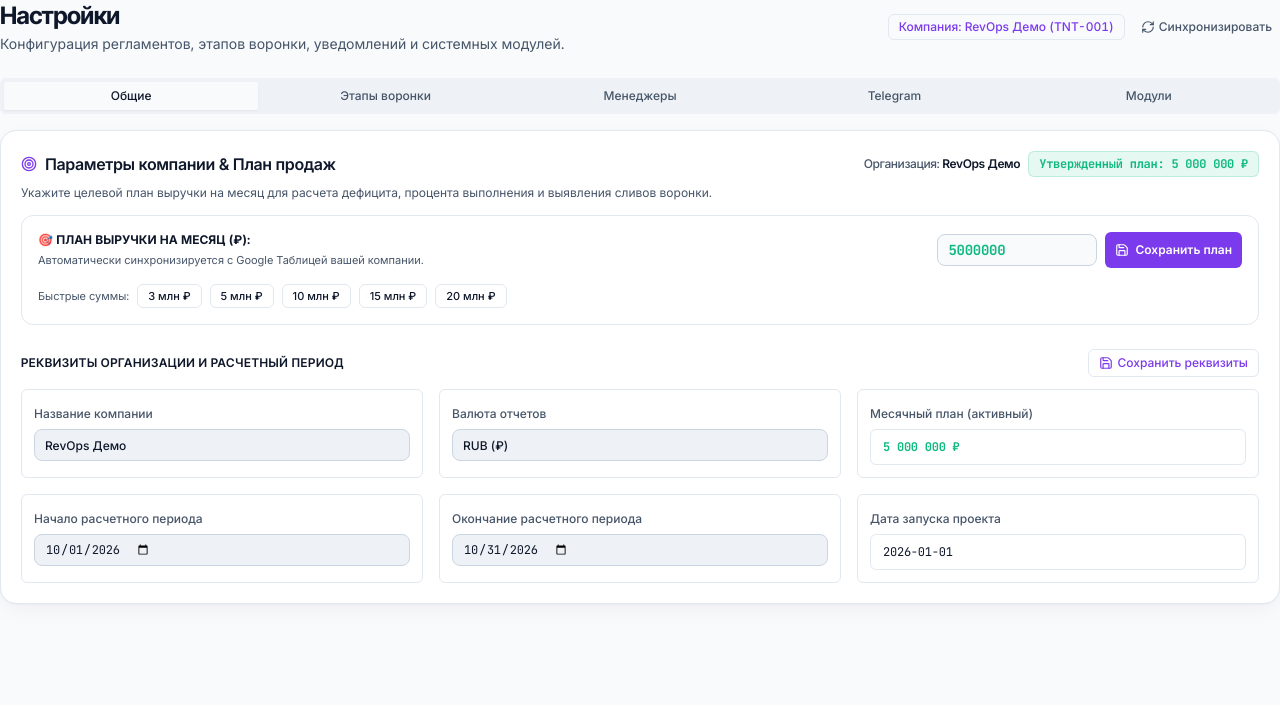
Scenario: SettingsPage › validates manager fields and prevents duplicate IDs
Expected: the text "RevOps Демо" is shown, left=942, top=156, right=1020, bottom=171
Press Enter in the tab with test id "tab-managers", box left=513, top=82, right=767, bottom=110
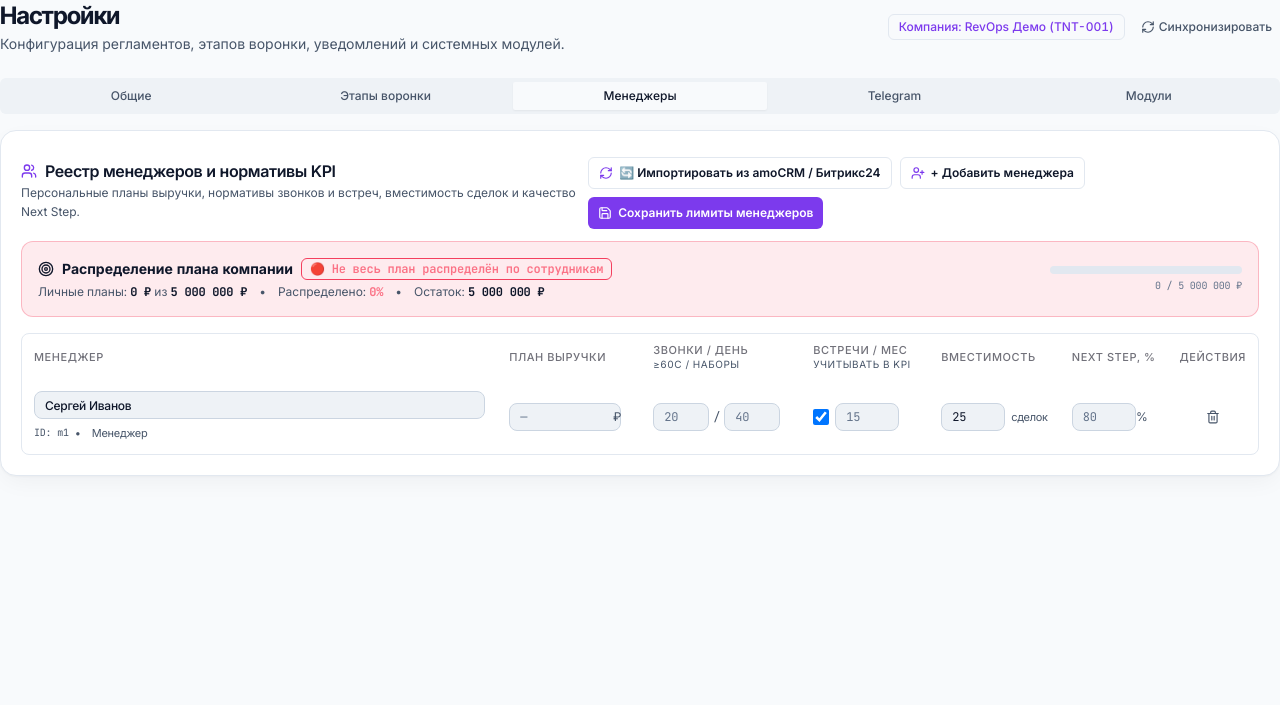
Click the button with test id "btn-add-manager" at coordinates (992, 173), box left=900, top=157, right=1085, bottom=189
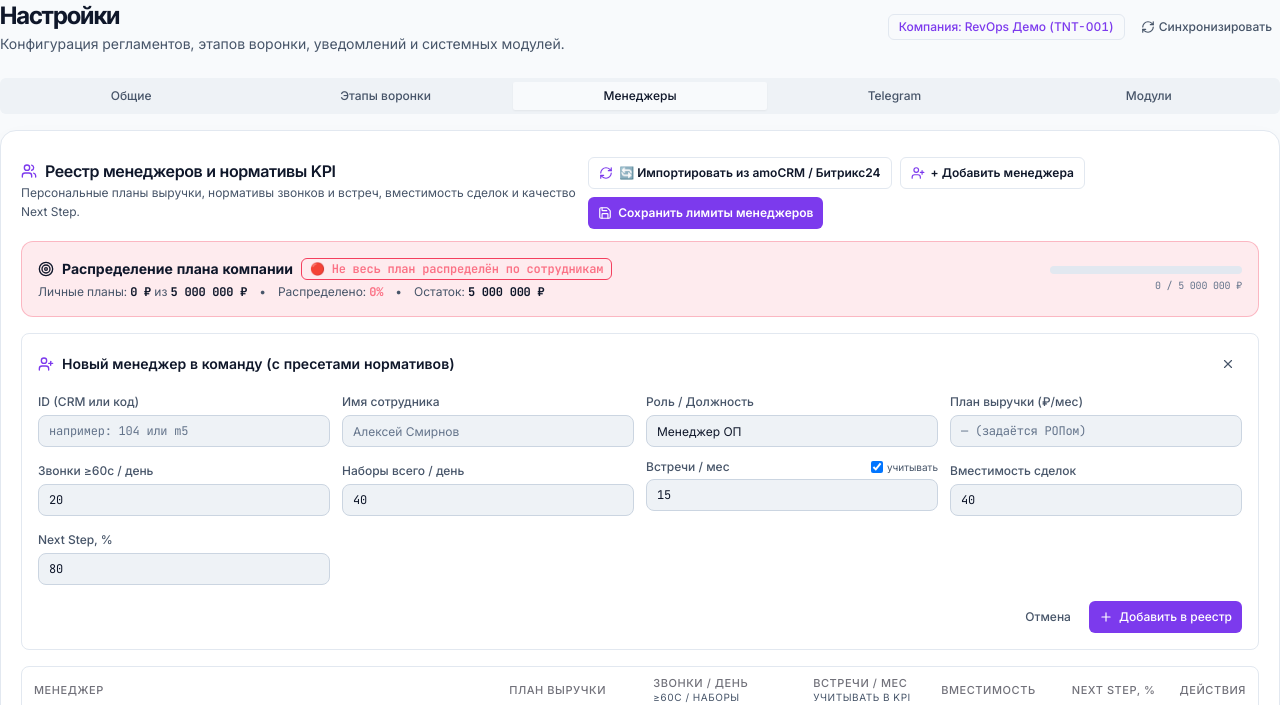
Empty submit
Click the button with test id "btn-confirm-add-manager" at coordinates (1165, 617), box left=1089, top=601, right=1242, bottom=633
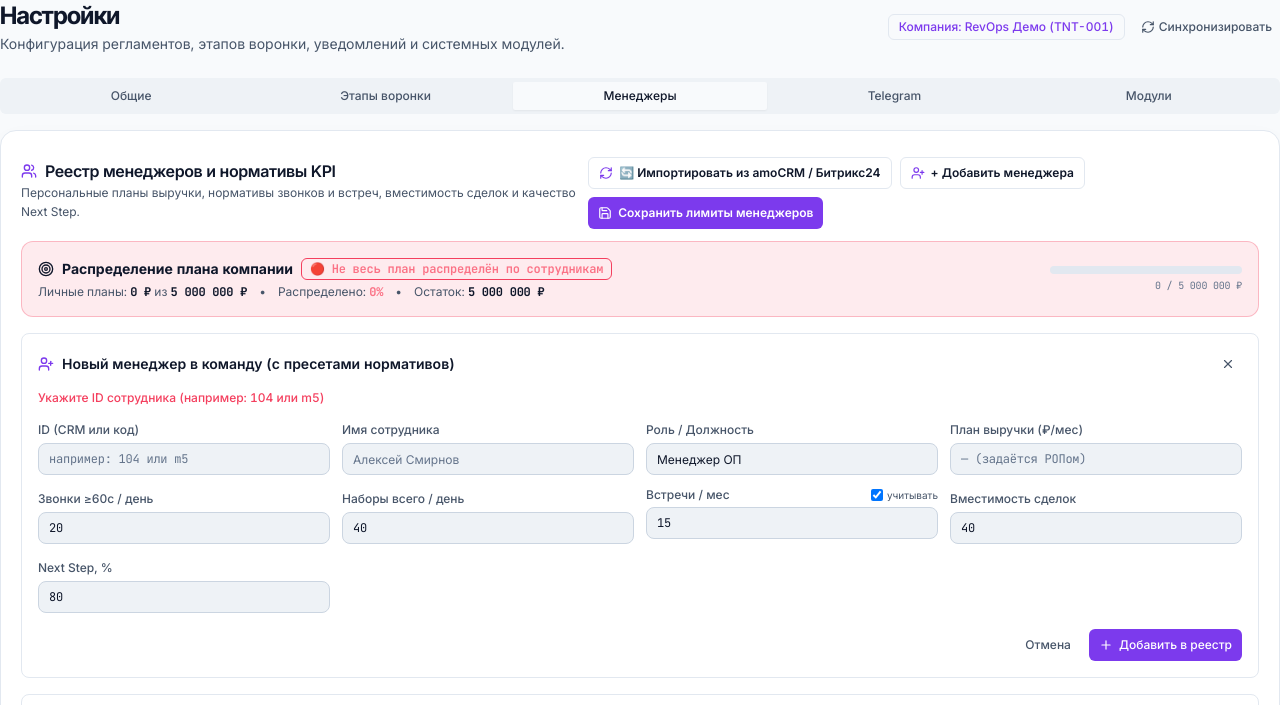
Now the text with test id "add-manager-error" shows "Укажите ID сотрудника", box left=38, top=390, right=324, bottom=405
Type "m1" into the field with test id "input-new-manager-id" at coordinates (184, 459), box left=38, top=443, right=330, bottom=475
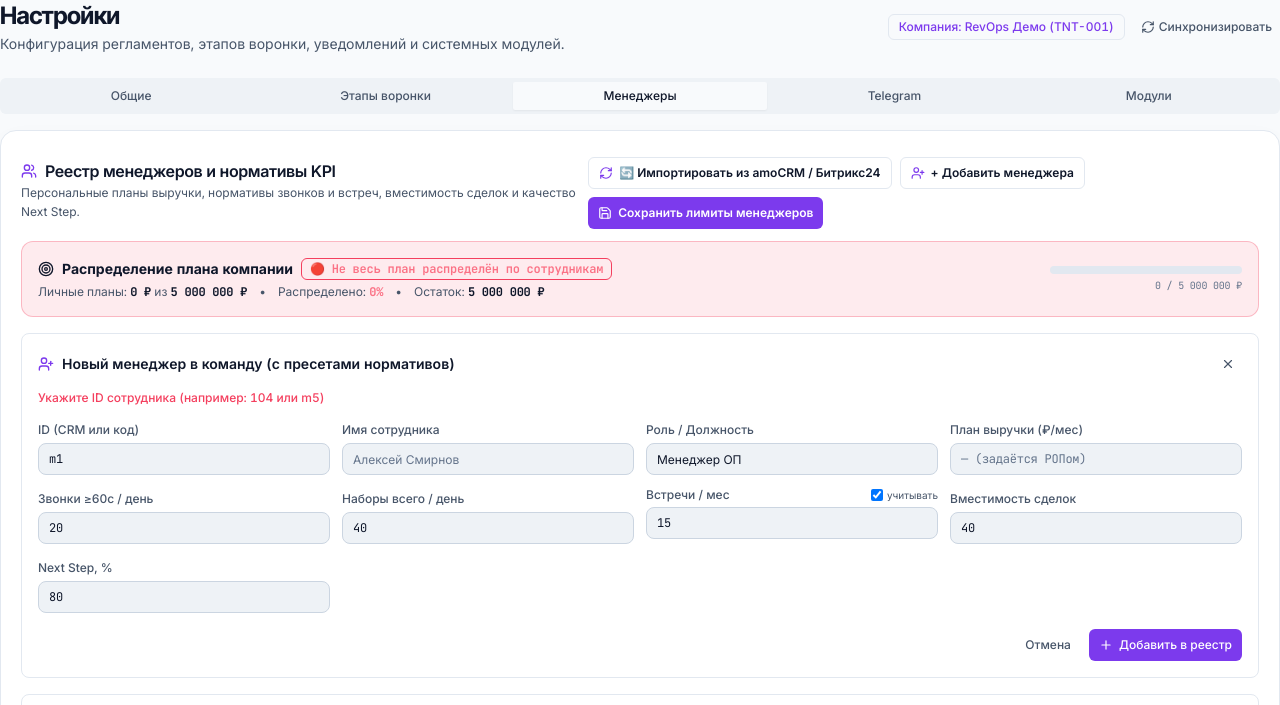
Type "Тестовый Дубль" into the field with test id "input-new-manager-name" at coordinates (488, 459), box left=342, top=443, right=634, bottom=475
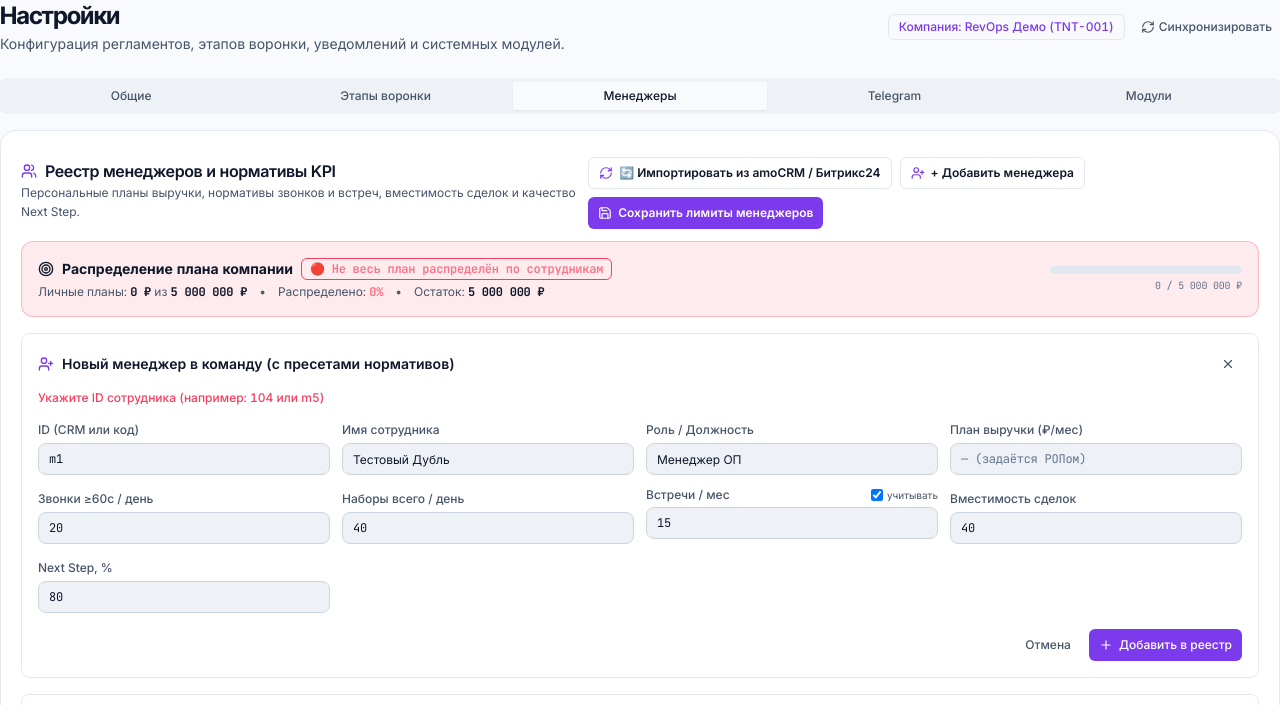
Click the button with test id "btn-confirm-add-manager" at coordinates (1165, 645), box left=1089, top=629, right=1242, bottom=661
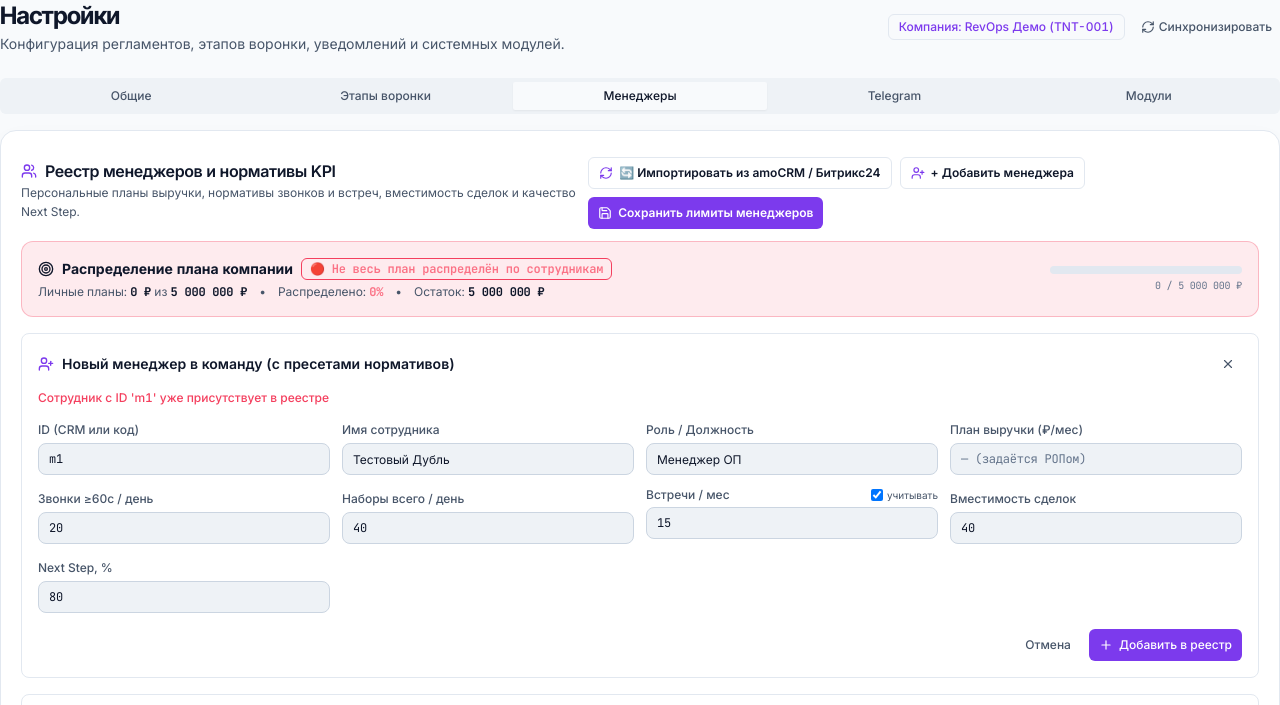
Now the text with test id "add-manager-error" shows "уже присутствует в реестре", box left=38, top=390, right=329, bottom=405
